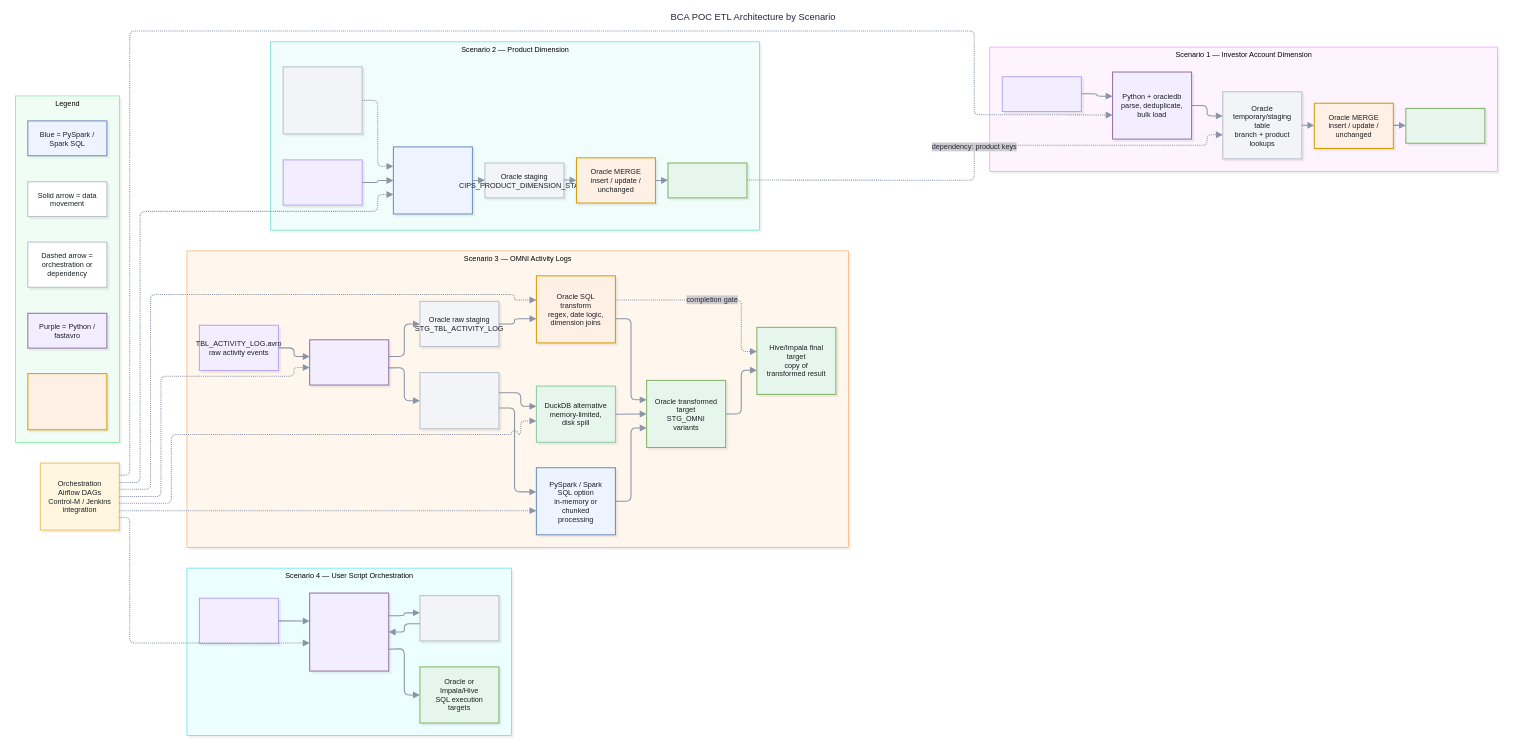
Some shapes in this 1517 by 747 pixel diagram are drawn without their labels. Each missing label, with the centre of its shape:
fastavro batch ingestion raw staging: pixel 350 363
Gray = Oracle SQL, Hive/Impala, or DuckDB: pixel 68 402
Hive/Impala raw staging activity log table: pixel 460 401
MProduct.txt + MProductOwnership.txt fixed-width: pixel 323 183
MProductOwnership.txt fixed-width: pixel 1043 95
Oracle JDBC lookups currency + existing product keys: pixel 323 101
Oracle target CIPS_INVESTOR_ACCT_DIMENSION: pixel 1446 127
Oracle target CIPS_PRODUCT_DIMENSION: pixel 708 181
POC_ORCHESTRATION job/session metadata: pixel 460 619
PySpark parse, inner join, transform, deduplicate, assign keys: pixel 434 181
Python user script read SQL, check sessions, record status and row counts: pixel 350 632
SQL files session-level ETL statements: pixel 240 621
